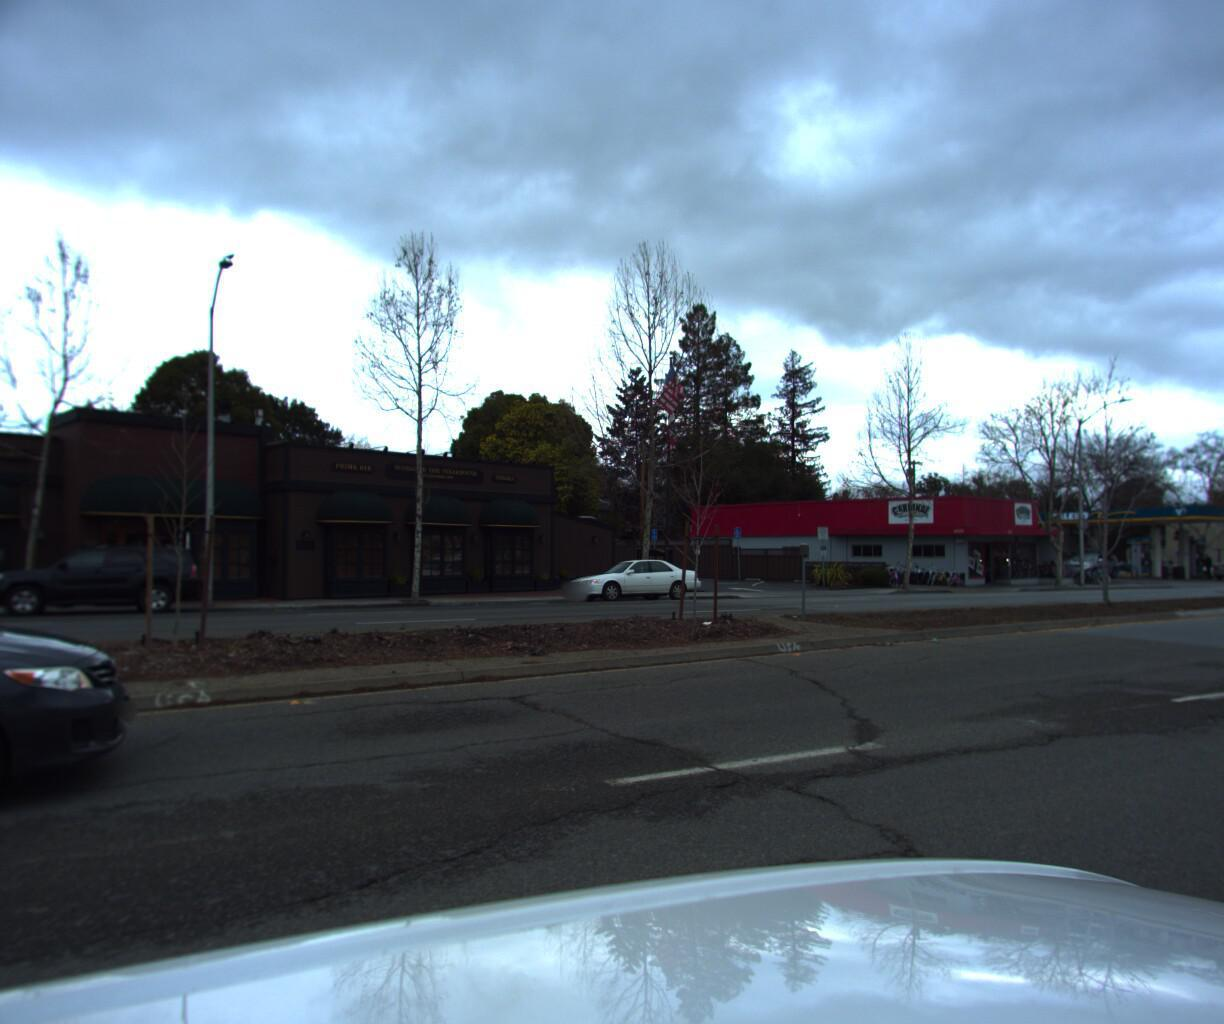bicycle: (1072, 555, 1108, 580), (1034, 548, 1069, 573), (1032, 548, 1067, 573), (1039, 548, 1074, 573), (876, 559, 908, 583), (927, 561, 945, 581), (920, 563, 938, 582), (906, 562, 924, 581), (914, 563, 931, 581), (948, 564, 966, 582), (942, 564, 958, 581)
car: (0, 539, 154, 978), (0, 542, 204, 623), (558, 554, 703, 605), (1054, 548, 1118, 577), (1205, 552, 1224, 578)
